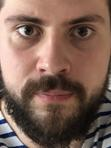without_mask: (1, 1, 111, 148)
